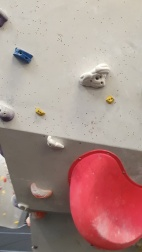Jug: (77, 62, 111, 88), (29, 181, 54, 202), (46, 134, 64, 151)
Pinch: (12, 46, 33, 64)
Sloper: (1, 103, 16, 121)
